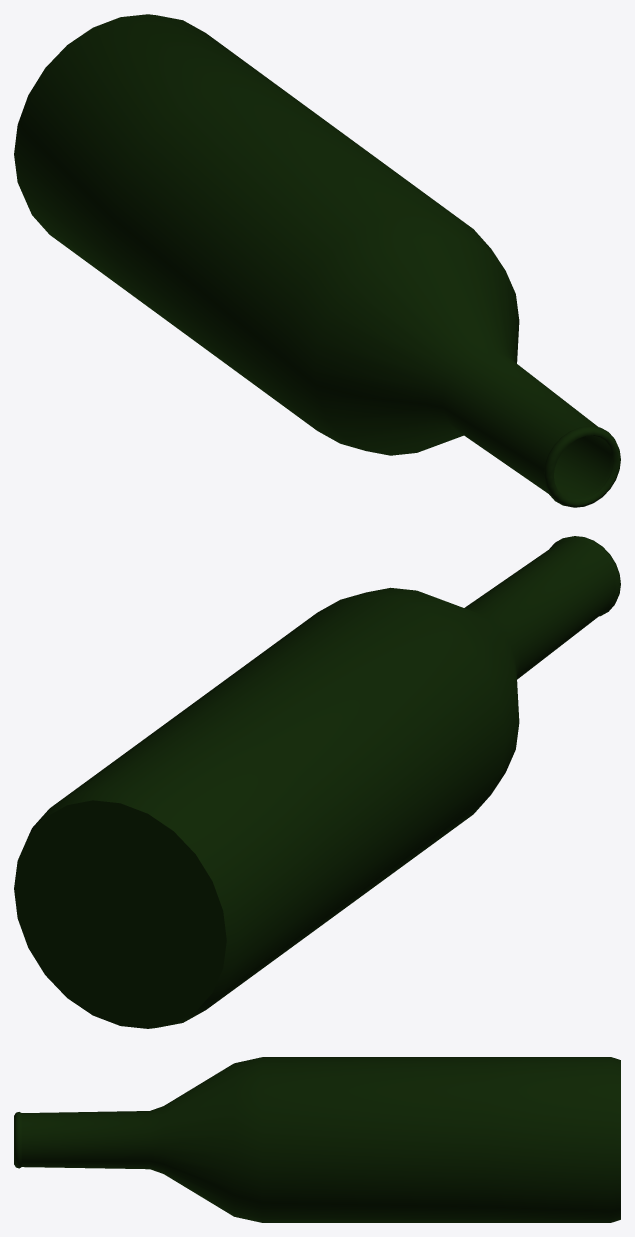
File: MeshWineBottle_1_0_GeomSubset_0.obj
The picture shows the model from 3 angles, top to bottom: view 1: azimuth 30°, elevation 25°; view 2: azimuth 150°, elevation 25°; view 3: azimuth 270°, elevation 25°; orthographic projection. The views are drawn at different scales.
Parts seen in each view (by area): view 1: MeshWineBottle_1_0_GeomSubset_0; view 2: MeshWineBottle_1_0_GeomSubset_0; view 3: MeshWineBottle_1_0_GeomSubset_0.
Part boxes in pixels (x1=…): MeshWineBottle_1_0_GeomSubset_0: x1=14, y1=14, x2=620, y2=507; MeshWineBottle_1_0_GeomSubset_0: x1=14, y1=536, x2=620, y2=1028; MeshWineBottle_1_0_GeomSubset_0: x1=14, y1=1057, x2=620, y2=1222.
Size of the model in its own units: 0.0892 by 0.0893 by 0.3254.
